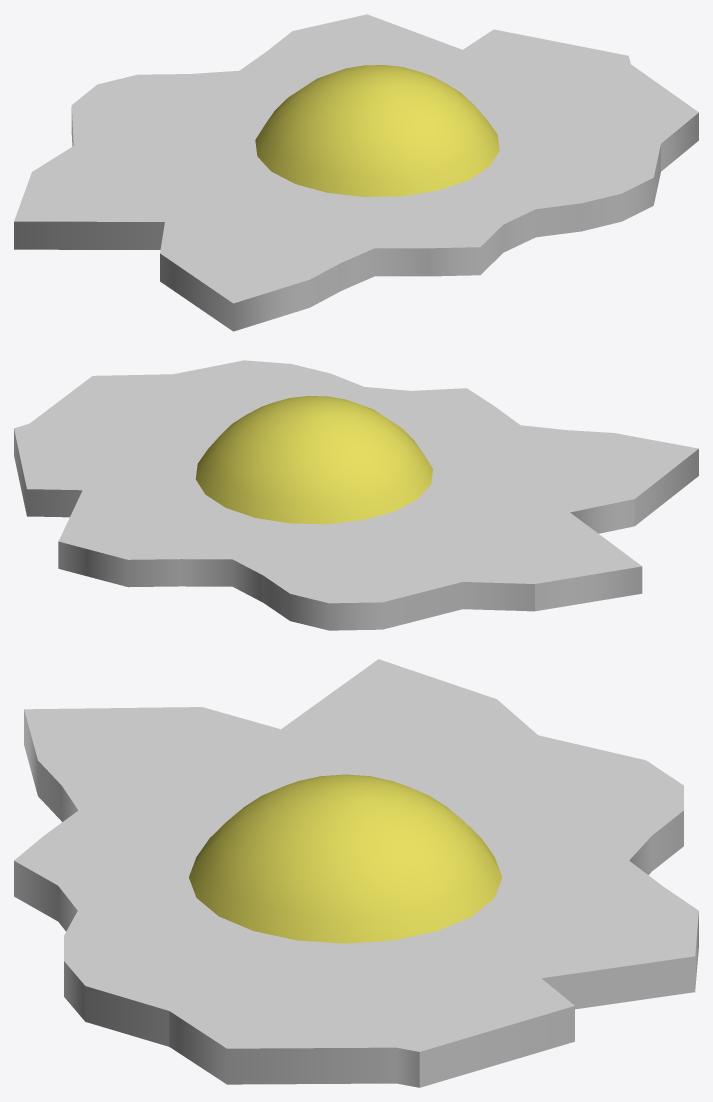
Rendered from CS_Egg1_03_DF.fbx.
The picture shows the model from 3 angles, top to bottom: view 1: azimuth 30°, elevation 25°; view 2: azimuth 150°, elevation 25°; view 3: azimuth 270°, elevation 25°; orthographic projection. The views are drawn at different scales.
Visible parts, largest first — view 1: Egg1; view 2: Egg1; view 3: Egg1.
Boxes of the visible parts, x1,y1,x2,y2 form: Egg1: (14,14,698,331); Egg1: (14,360,698,630); Egg1: (14,659,698,1087).
Bounding box in the file's own units: 0.1537 × 0.0223 × 0.1133.
